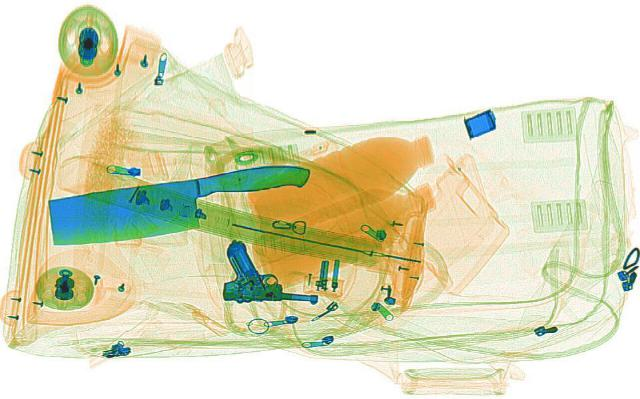Gun: (217, 239, 321, 304)
Knife: (36, 159, 327, 250)
